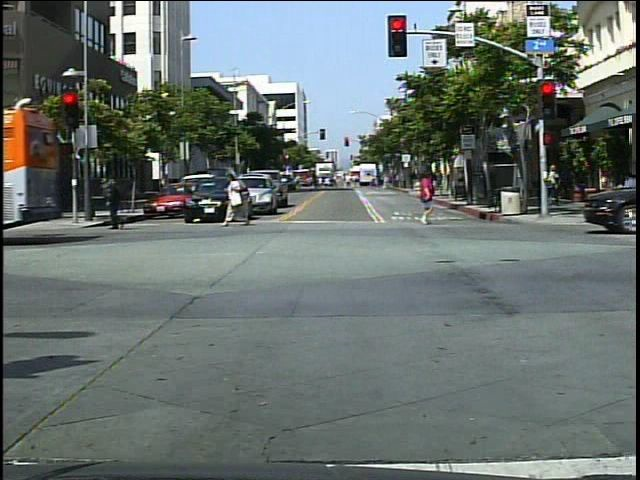person: (222, 166, 253, 230), (411, 166, 440, 231), (103, 169, 132, 232), (545, 160, 567, 211)
